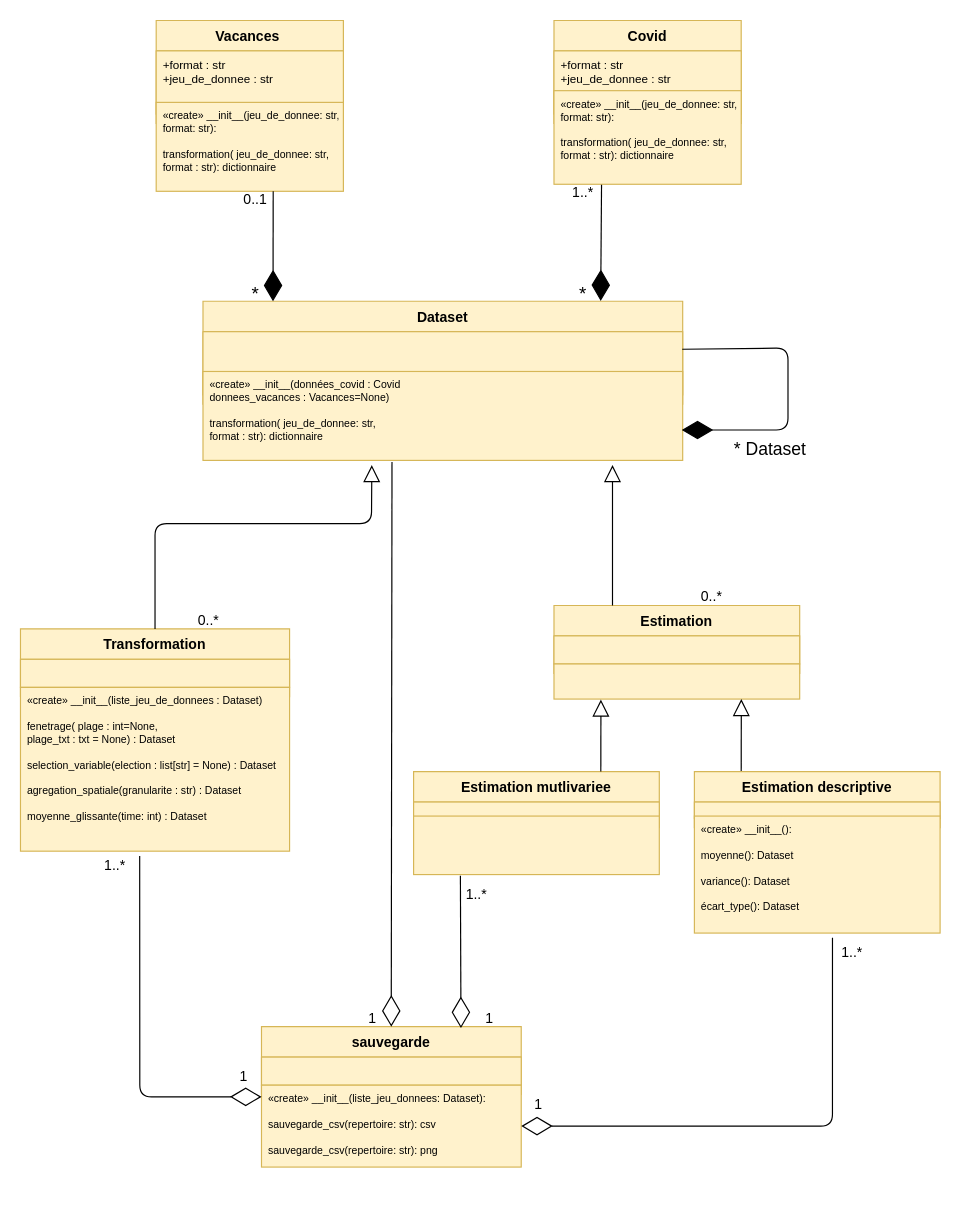
Some shapes in this 961 by 1226 pixel diagram are drawn without their labels. Each missing label, with the centre of its shape:
+donnees_covid: Covid +donnees_vacances: Vacances: (x=442, y=363)
+liste_jeu_de_donnees : Dataset: (x=154, y=672)
+liste_jeu_donnees : Dataset: (x=676, y=649)
+liste_jeu_donnees: Dataset: (x=390, y=1070)
«create» __init__(): Kmeans(k:int): Dataset: (x=535, y=845)
«create» __init__(liste_jeu_de_donnee: Dataset):: (x=676, y=681)
